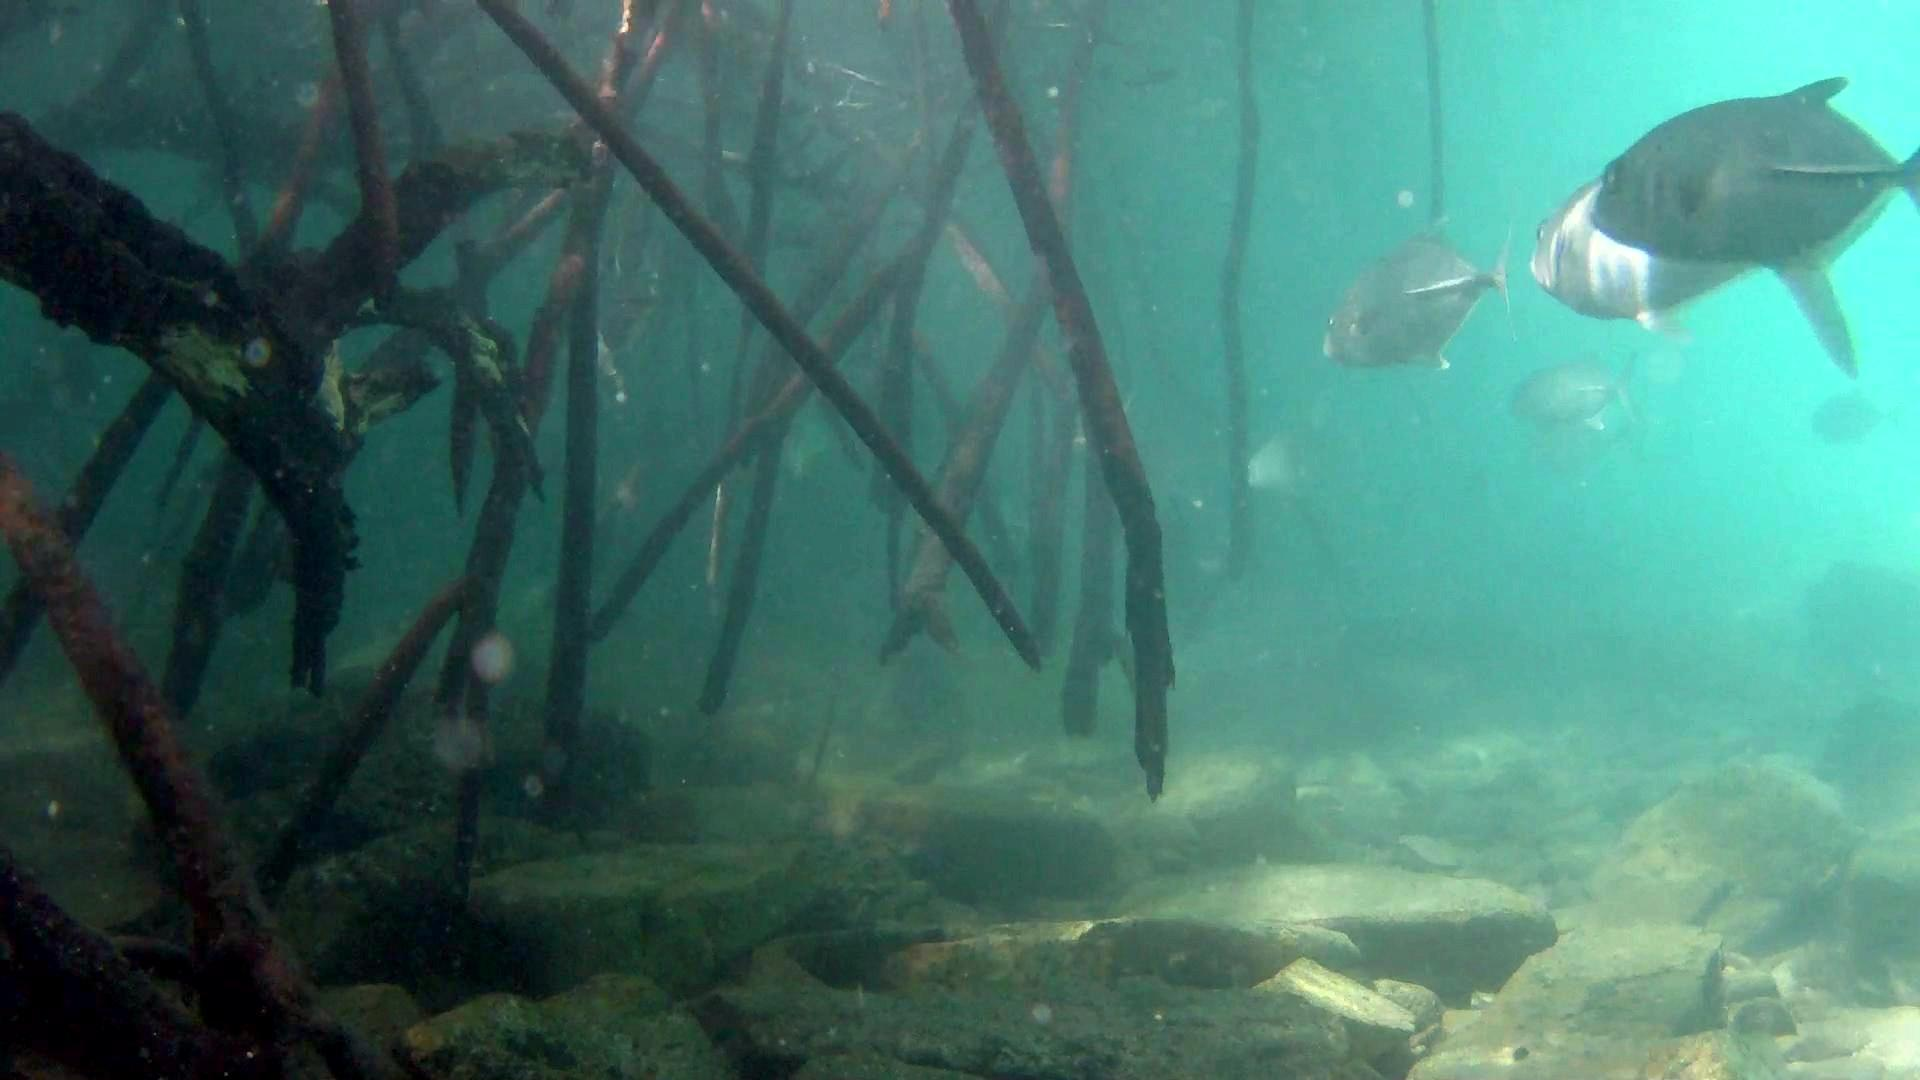caranx: (1582, 69, 1920, 281)
